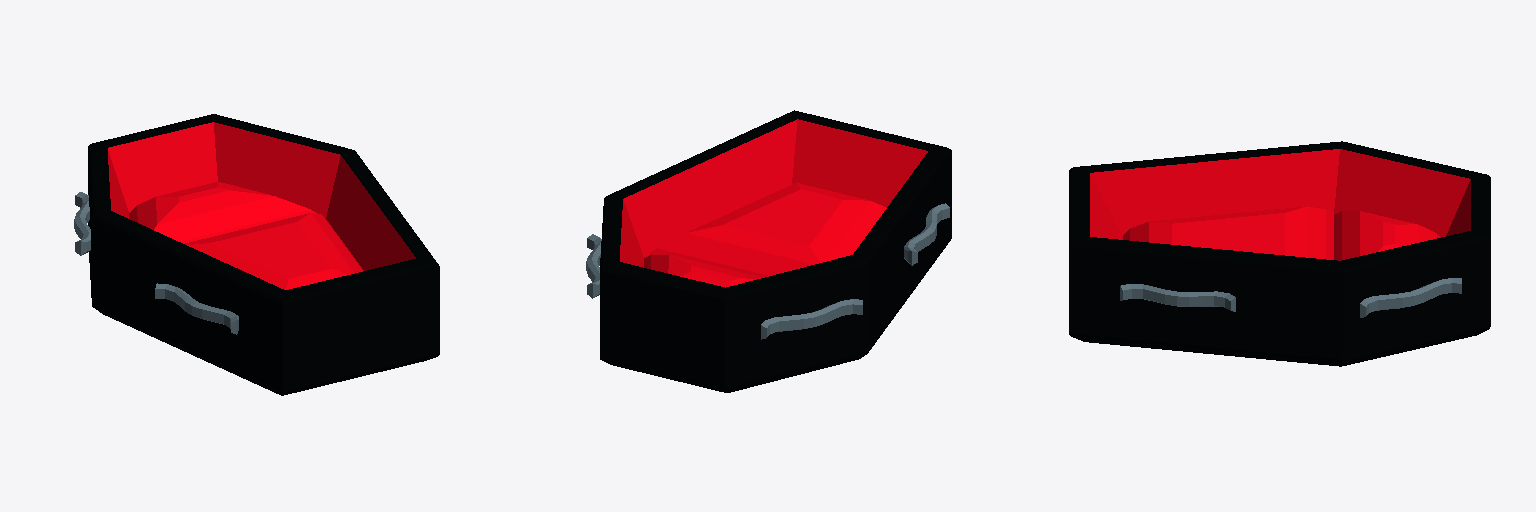
The model's file is coffinB_bottom.obj.
3 renders of one model, left to right at view 1: azimuth 30°, elevation 25°; view 2: azimuth 150°, elevation 25°; view 3: azimuth 270°, elevation 25°, orthographic.
Visible parts, largest first — view 1: coffinB_bottom_Cube.1439; view 2: coffinB_bottom_Cube.1439; view 3: coffinB_bottom_Cube.1439.
Boxes of the visible parts, x1,y1,x2,y2 form: coffinB_bottom_Cube.1439: [74, 114, 439, 395]; coffinB_bottom_Cube.1439: [586, 110, 951, 392]; coffinB_bottom_Cube.1439: [1069, 141, 1490, 366].
Size of the model in its own units: 1.51 by 0.5355 by 2.